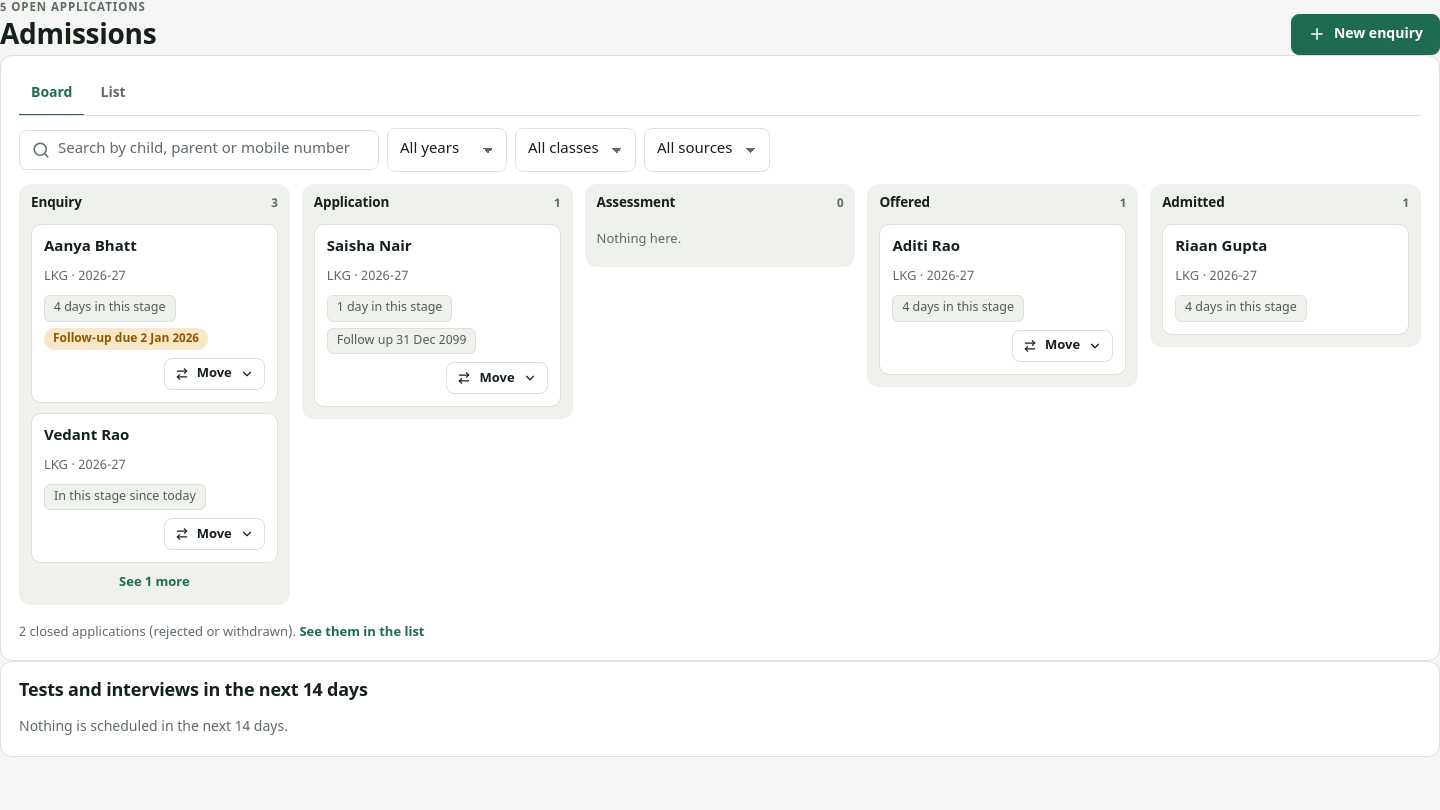
it: The admissions board › asks for a reason when rejecting and shows the API's refusal
Expected: the element with test id "admissions-board" is shown, [19,184,1421,611]
Click the button "Move" below "Follow-up due 2 Jan 2026": (214, 374) [164,358,265,390]
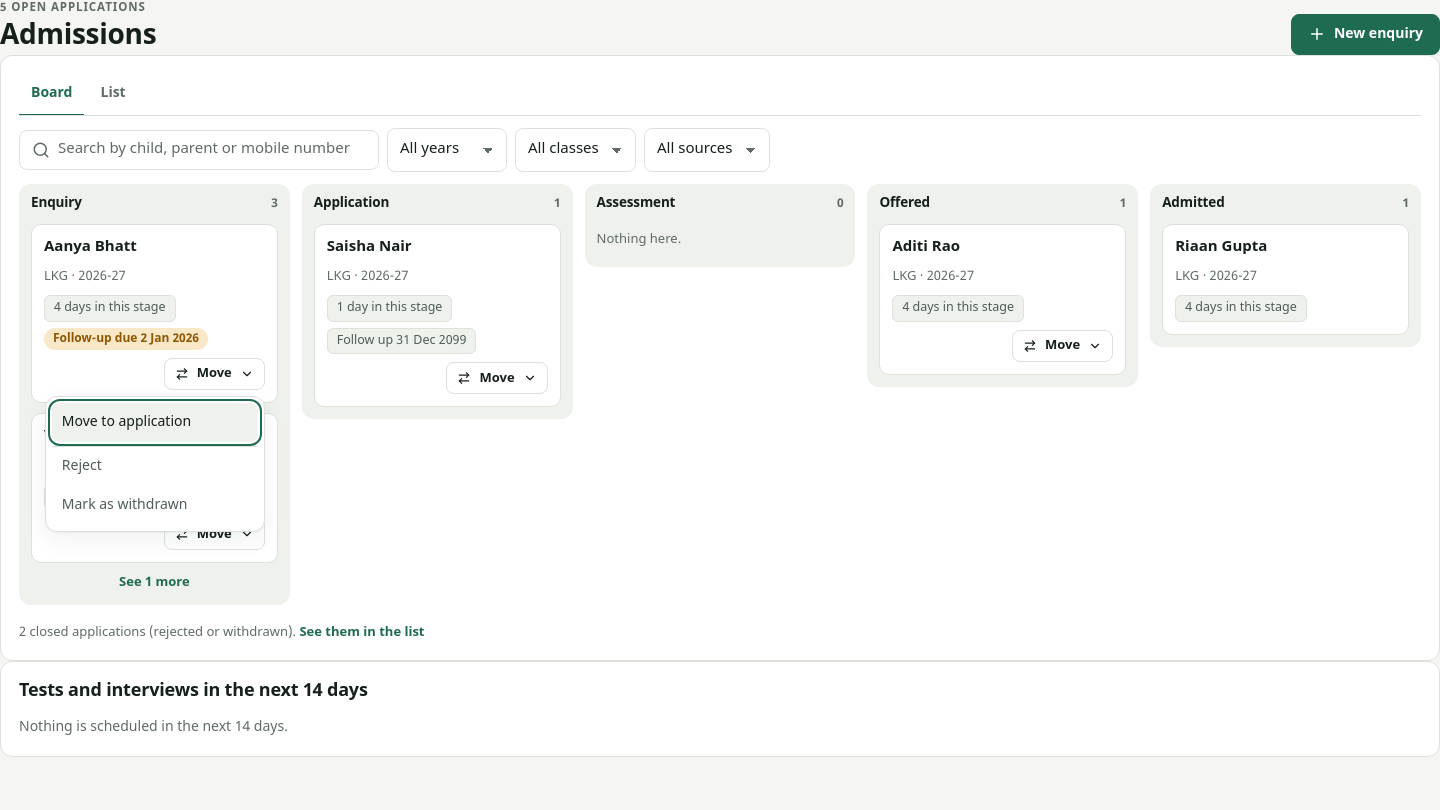
Click the menu item "Reject": (155, 466) [52,446,258,486]
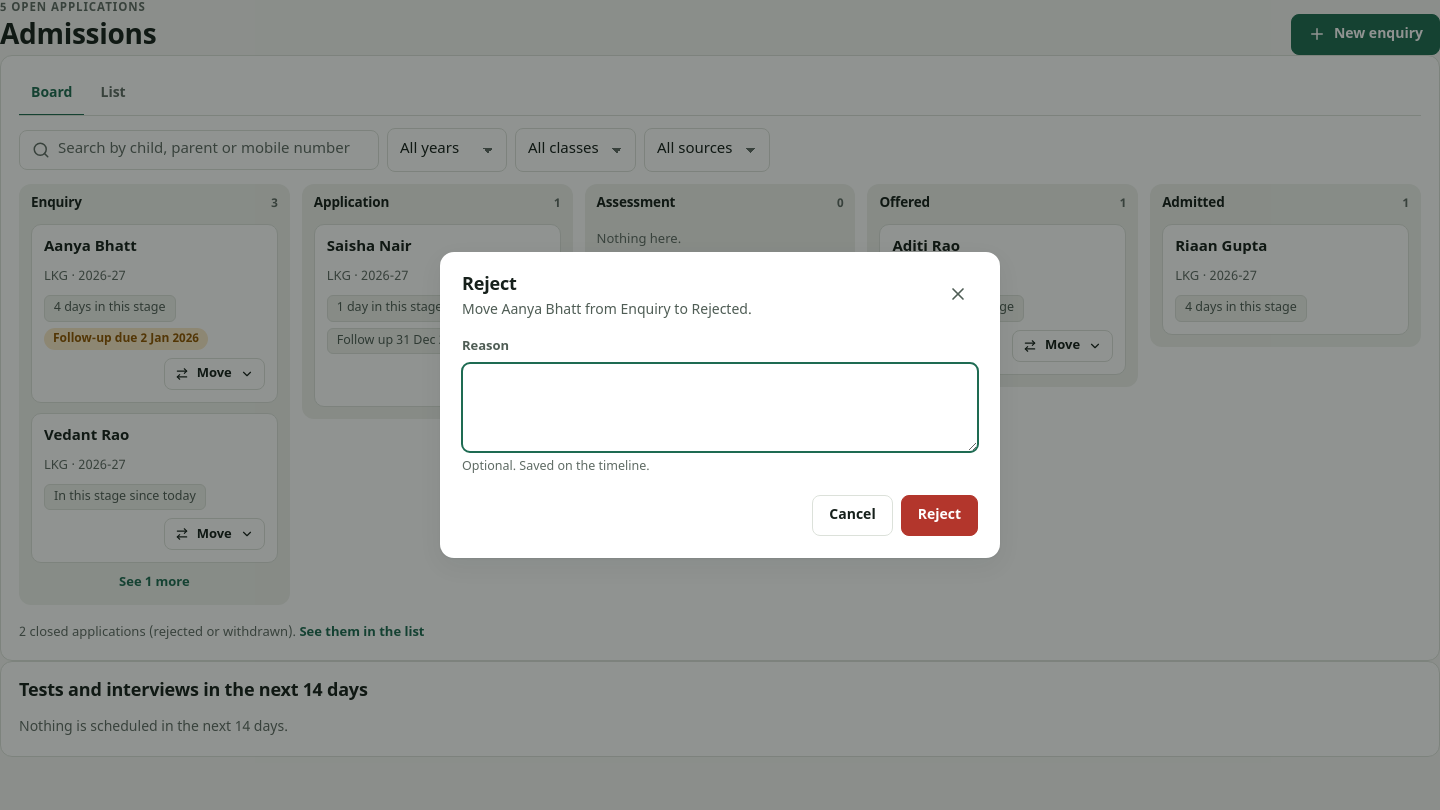
In the text box labelled "Reason": (720, 408) [462,363,978,452], type "Class is full"
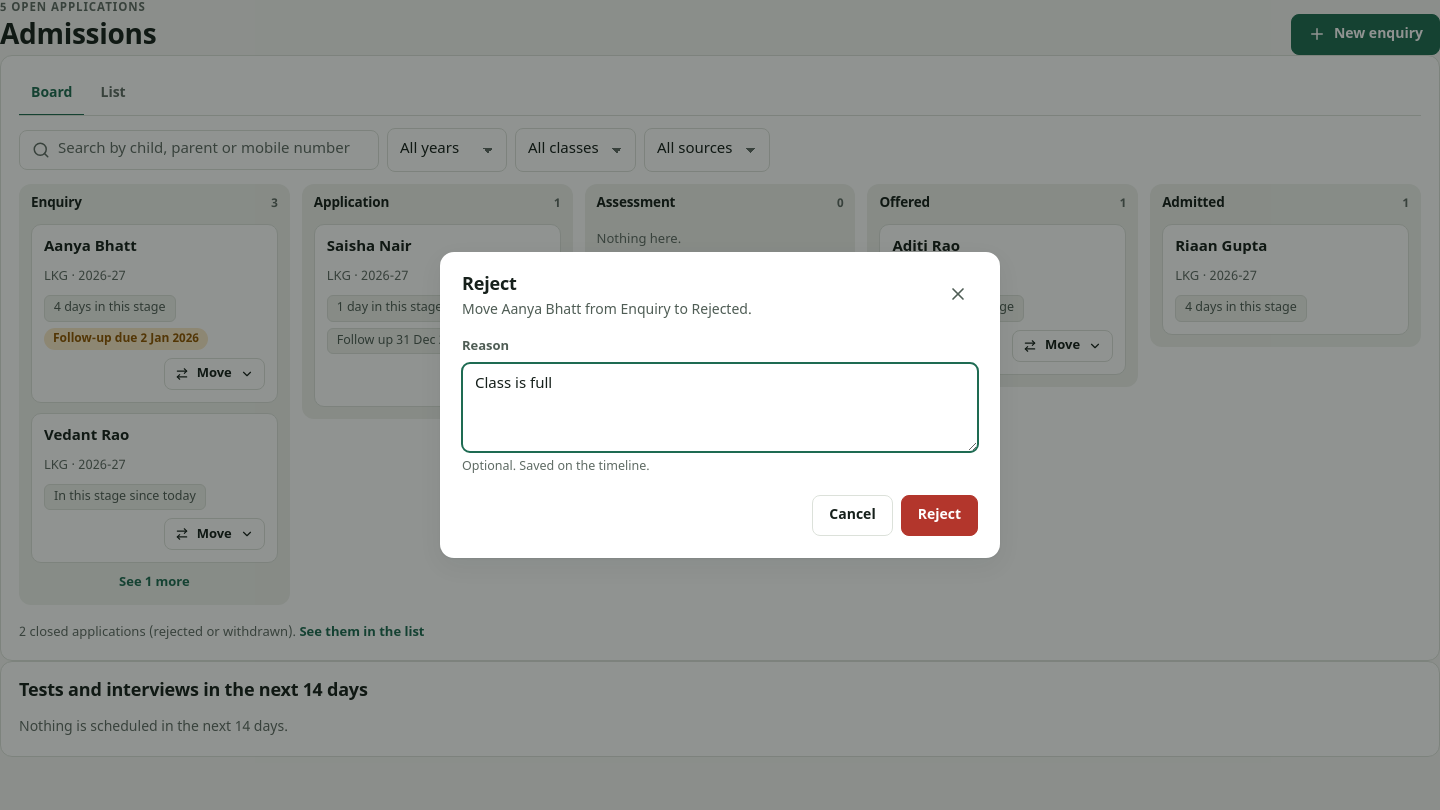
Click the button "Reject": (939, 516) [901,495,978,536]
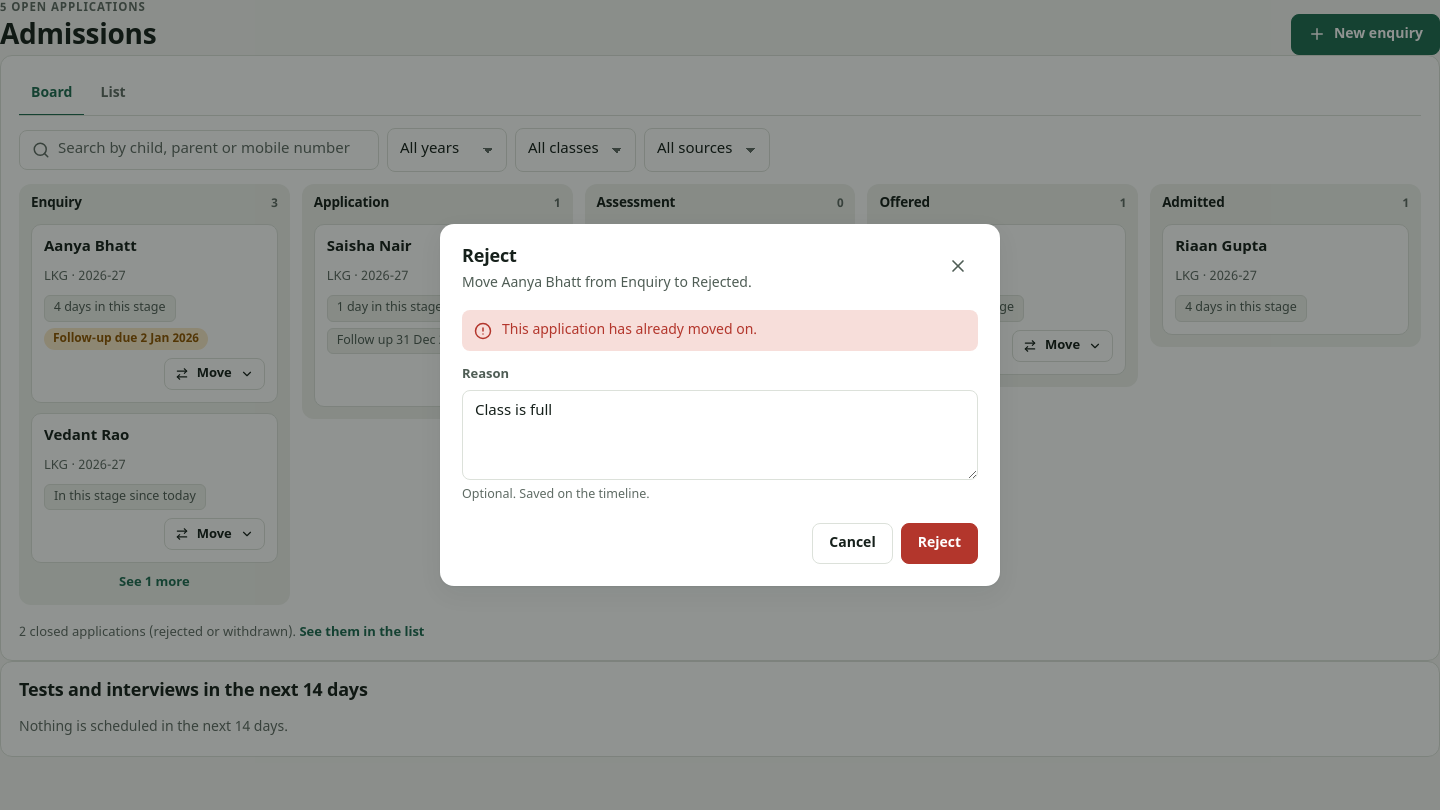
Result: the text "This application has already moved on." is shown at [502,320,757,341]
